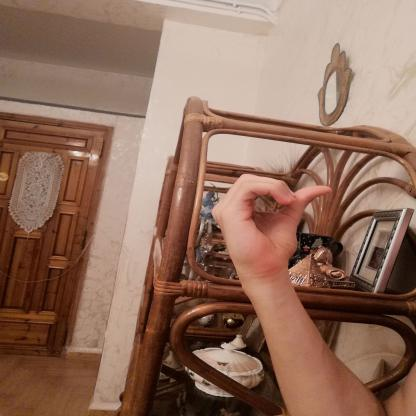WAW: (201, 165, 342, 282)
